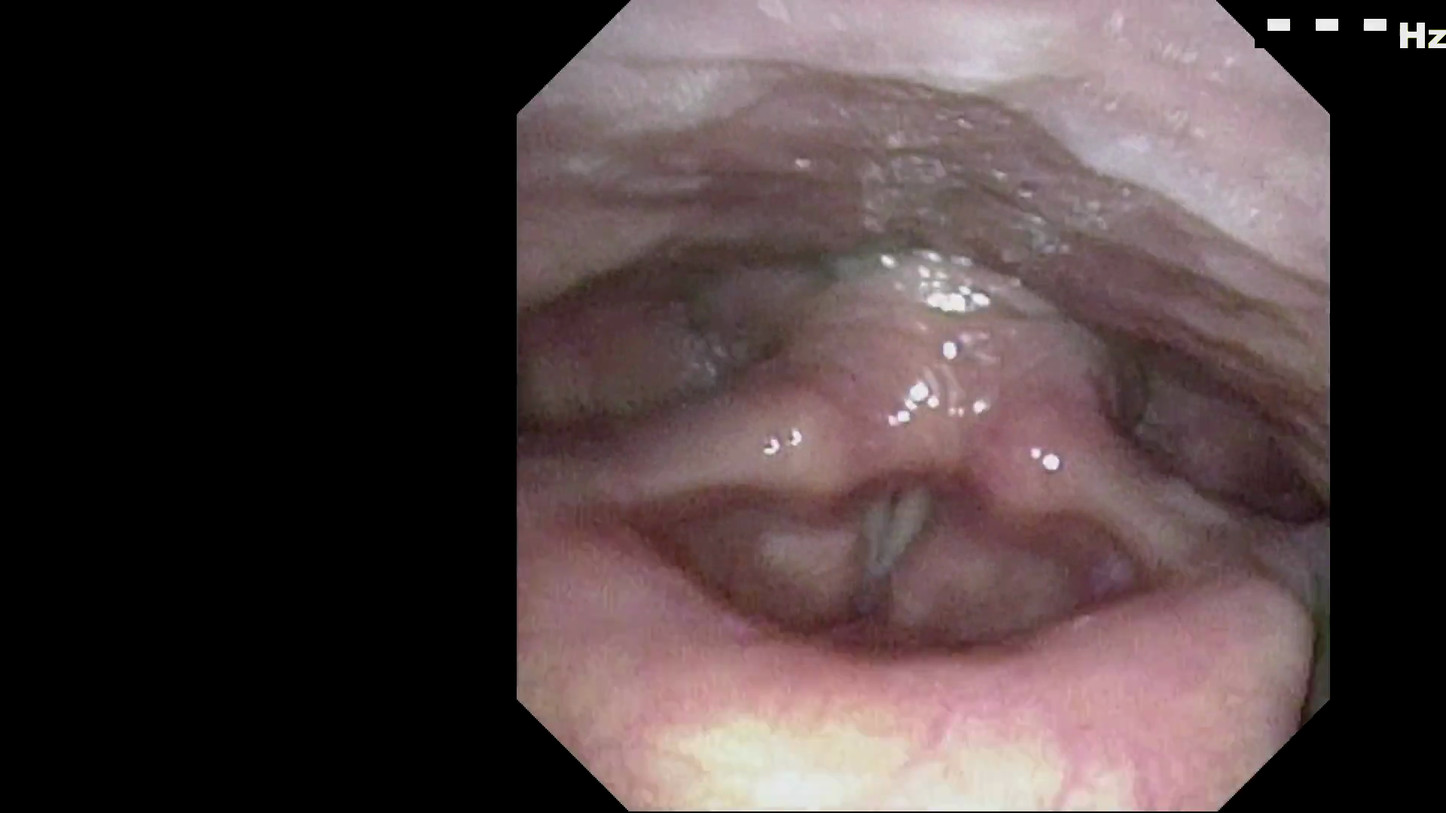epiglottis: (552, 519, 1272, 732)
trachea: (847, 468, 936, 571)
